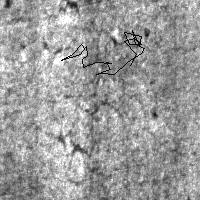crazing: (42, 24, 189, 71), (50, 91, 127, 157), (61, 30, 144, 74)
